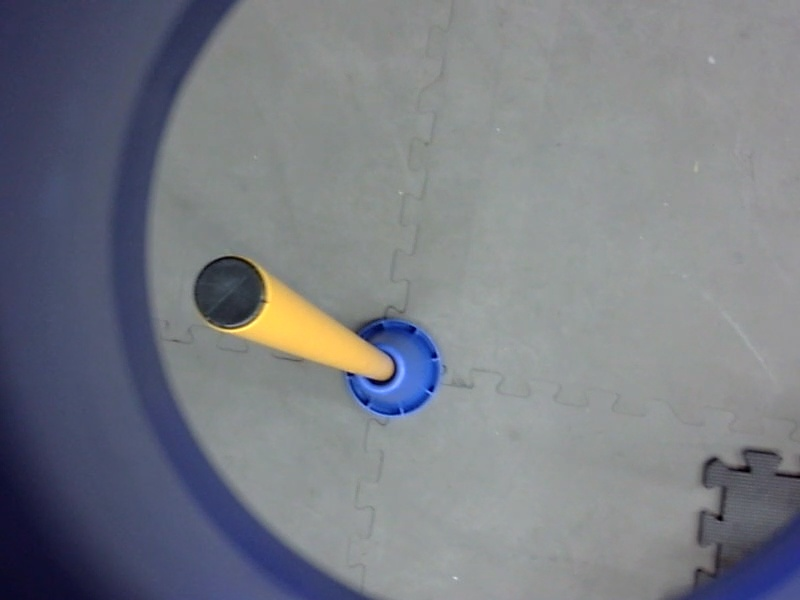tip: (187, 249, 274, 340)
